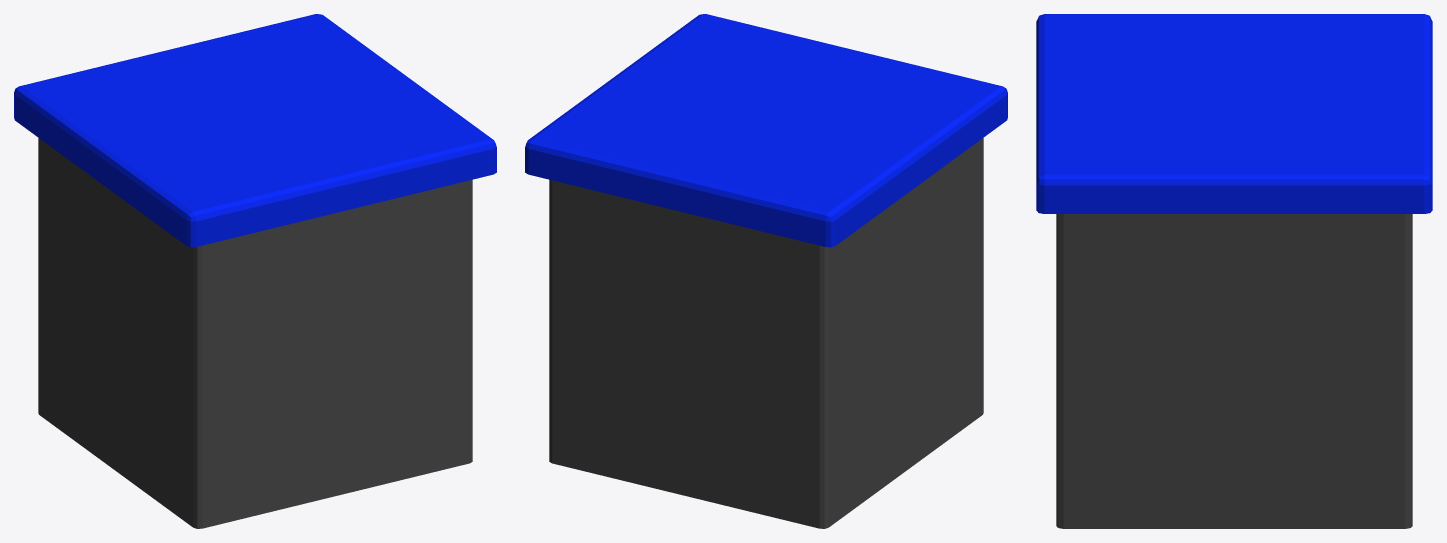
The model's file is Workbench_Ready.fbx.
3 views of the same model, side by side, from view 1: azimuth 30°, elevation 25°; view 2: azimuth 150°, elevation 25°; view 3: azimuth 270°, elevation 25° (orthographic). The views are drawn at different scales.
Visible parts, largest first — view 1: Workbench Ready; view 2: Workbench Ready; view 3: Workbench Ready.
Boxes of the visible parts, box(x1,y1,x2,y2) form: Workbench Ready: box(14, 14, 496, 528); Workbench Ready: box(525, 14, 1007, 528); Workbench Ready: box(1036, 14, 1432, 528).
Size of the model in its own units: 100 by 100 by 100.
